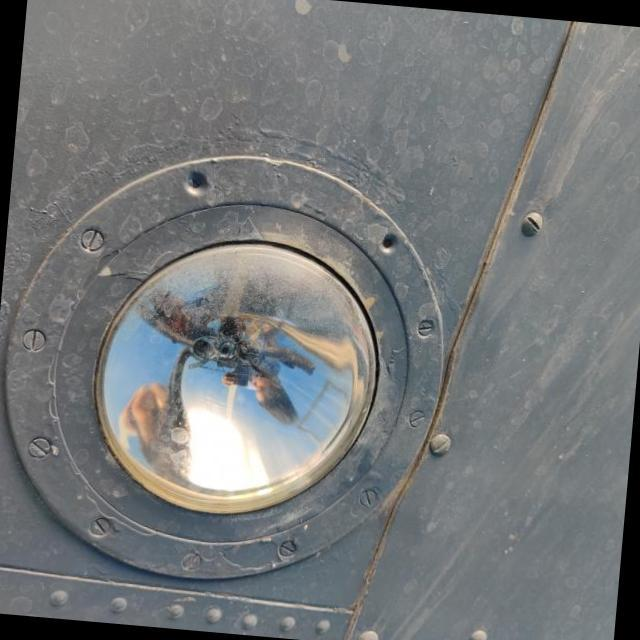Fastener Damage: (167, 151, 226, 210), (364, 216, 418, 270)
